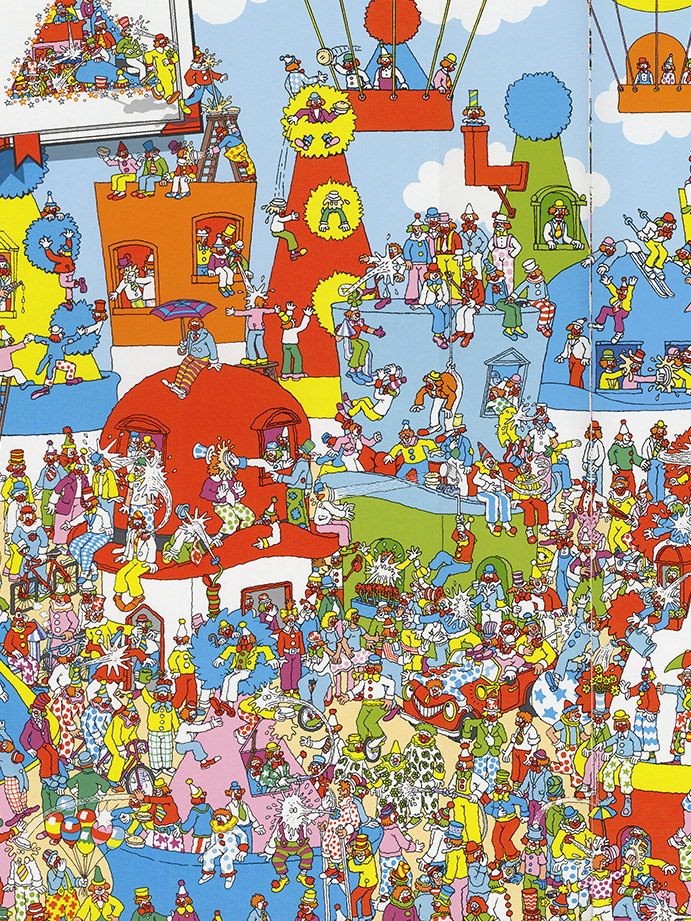waldo: (426, 864, 446, 886)
